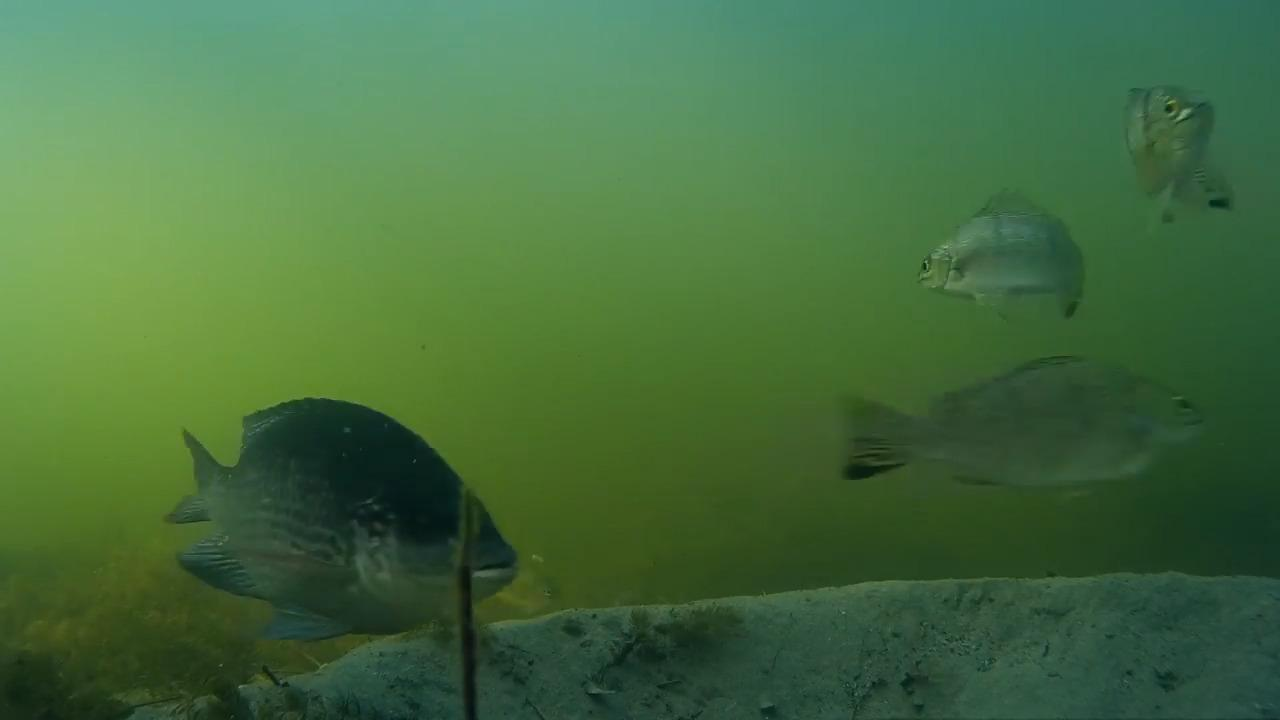Tilapia: (134, 386, 539, 666), (832, 356, 1209, 546), (897, 158, 1098, 328), (1111, 62, 1270, 244)
